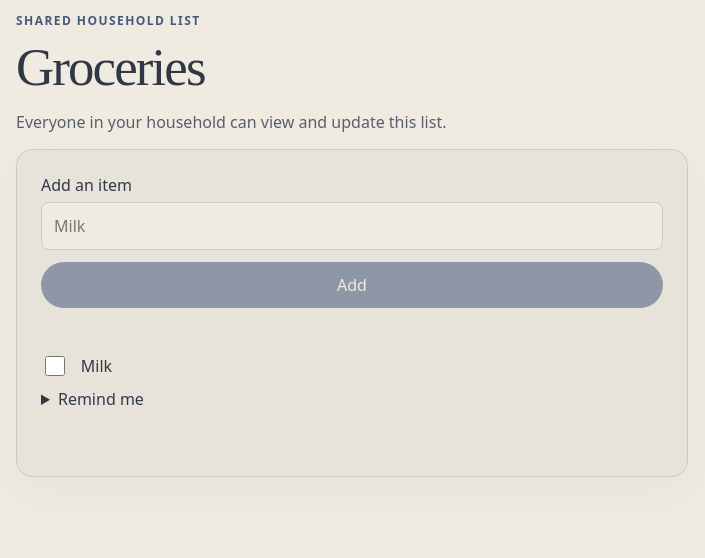
Scenario: lists screen › hides a checked grocery immediately and restores it on a failed save
Click the checkbox.
click(55, 366)  # box [45,356,65,376]
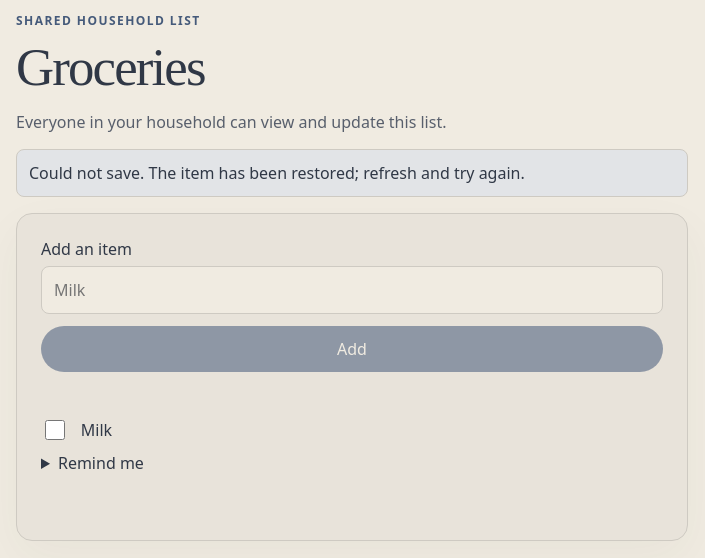
Expected: the text "Milk" is shown, [81,419,112,441]
Expected: the message shows "restored", [29,162,525,184]
